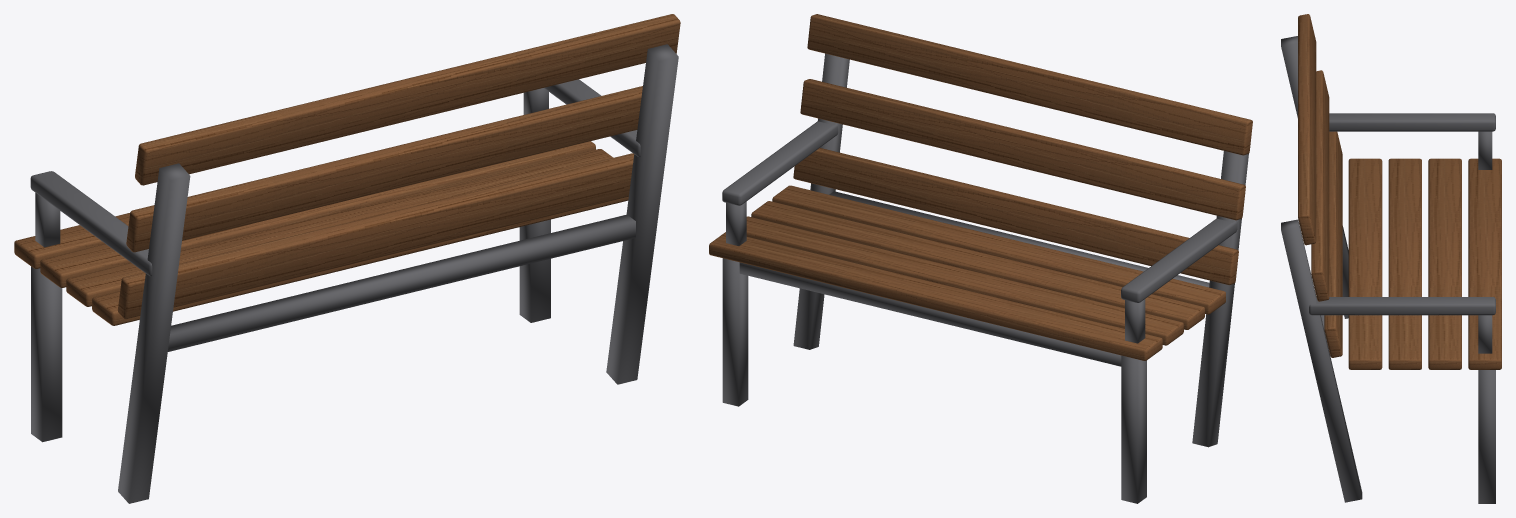
File: kursi-blender-v1.glb
The picture shows the model from 3 angles, left to right: view 1: azimuth 30°, elevation 25°; view 2: azimuth 150°, elevation 25°; view 3: azimuth 270°, elevation 25°; orthographic projection. The views are drawn at different scales.
Parts seen in each view (by area): view 1: BackSlat_2, BackSlat_1, BackSlat_0, CrossBar_B, LegBack_-0.61, LegBack_0.61, SeatSlat_1, SeatSlat_2, LegFront_-0.61, Armrest_-0.61, SeatSlat_0, LegFront_0.61 (+3 smaller); view 2: BackSlat_2, BackSlat_1, BackSlat_0, SeatSlat_3, SeatSlat_1, SeatSlat_0, SeatSlat_2, LegBack_-0.61, CrossBar_F, LegFront_0.61, LegFront_-0.61, Armrest_0.61 (+5 smaller); view 3: SeatSlat_0, SeatSlat_1, SeatSlat_2, SeatSlat_3, LegBack_0.61, BackSlat_2, Armrest_0.61, BackSlat_1, Armrest_-0.61, BackSlat_0, LegFront_0.61, LegBack_-0.61 (+2 smaller).
Boxes of the visible parts, x1,y1,x2,y2 form: BackSlat_2: [135, 14, 680, 185]; BackSlat_1: [126, 86, 642, 252]; BackSlat_0: [117, 153, 634, 319]; CrossBar_B: [168, 214, 635, 351]; LegBack_-0.61: [118, 163, 190, 503]; LegBack_0.61: [606, 44, 678, 384]; SeatSlat_1: [66, 149, 613, 306]; SeatSlat_2: [40, 141, 595, 287]; LegFront_-0.61: [31, 266, 62, 442]; Armrest_-0.61: [30, 171, 152, 276]; SeatSlat_0: [92, 197, 628, 325]; LegFront_0.61: [519, 219, 550, 322]; BackSlat_2: [807, 14, 1252, 155]; BackSlat_1: [800, 79, 1245, 220]; BackSlat_0: [793, 148, 1238, 285]; SeatSlat_3: [709, 232, 1162, 360]; SeatSlat_1: [751, 201, 1204, 329]; SeatSlat_0: [772, 185, 1225, 314]; SeatSlat_2: [746, 216, 1183, 345]; LegBack_-0.61: [1192, 151, 1248, 447]; CrossBar_F: [739, 262, 1121, 366]; LegFront_0.61: [722, 258, 748, 406]; LegFront_-0.61: [1121, 355, 1146, 503]; Armrest_0.61: [722, 121, 838, 205]; SeatSlat_0: [1348, 158, 1382, 369]; SeatSlat_1: [1388, 158, 1421, 369]; SeatSlat_2: [1428, 158, 1461, 369]; SeatSlat_3: [1468, 158, 1501, 369]; LegBack_0.61: [1281, 219, 1362, 502]; BackSlat_2: [1298, 14, 1316, 245]; Armrest_0.61: [1309, 297, 1495, 315]; BackSlat_1: [1311, 70, 1329, 301]; Armrest_-0.61: [1329, 113, 1495, 131]; BackSlat_0: [1324, 131, 1342, 357]; LegFront_0.61: [1478, 370, 1495, 503]; LegBack_-0.61: [1281, 36, 1348, 318].
Size of the model in its own units: 1.35 by 0.9195 by 0.6253.
Materials: 2 (1 with a texture image).
